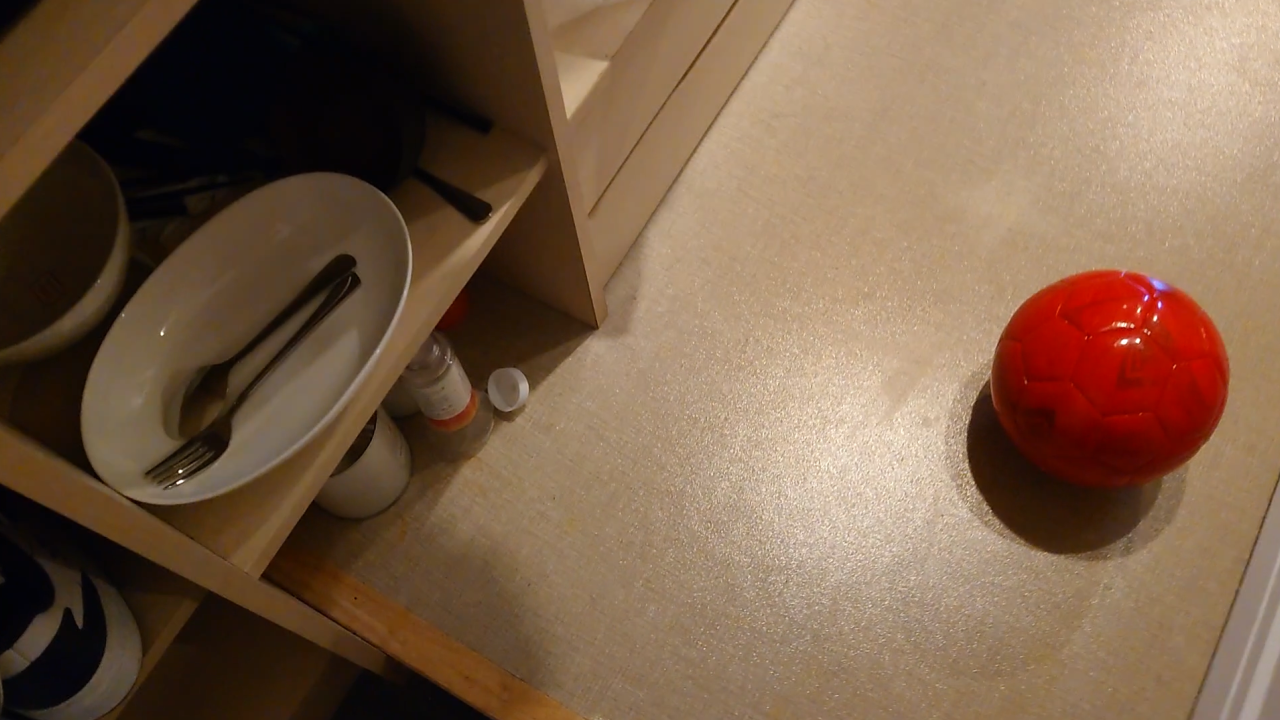red: (991, 270, 1229, 488)
